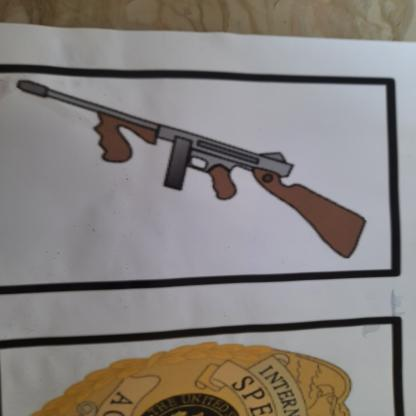Bootlegger: (10, 68, 394, 267)
